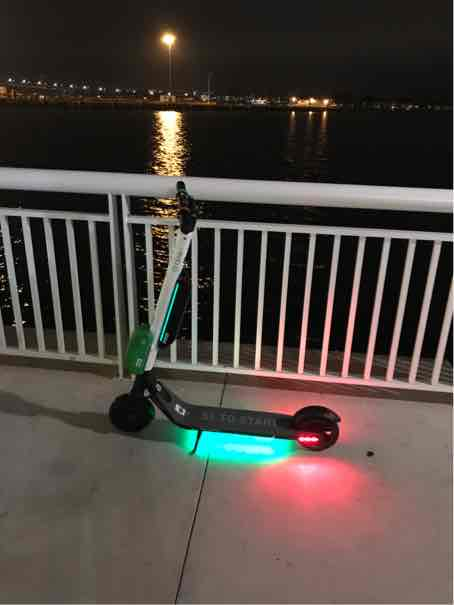scooter: (97, 171, 354, 464)
